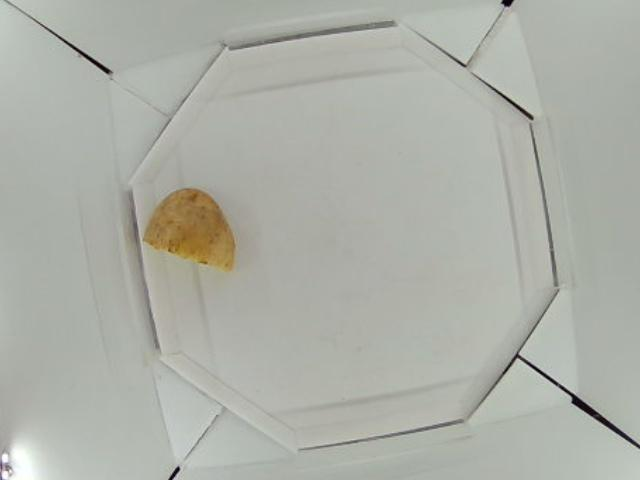Potato: (143, 190, 235, 272)
